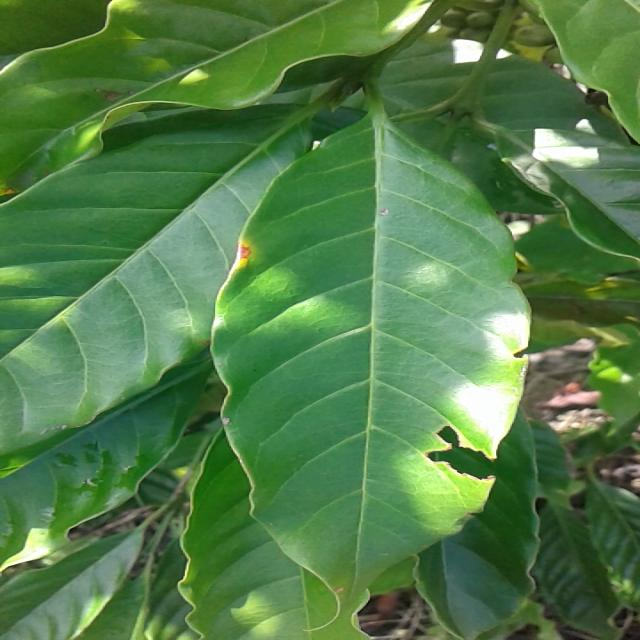Enfermedad-Roya: (212, 118, 532, 582)
